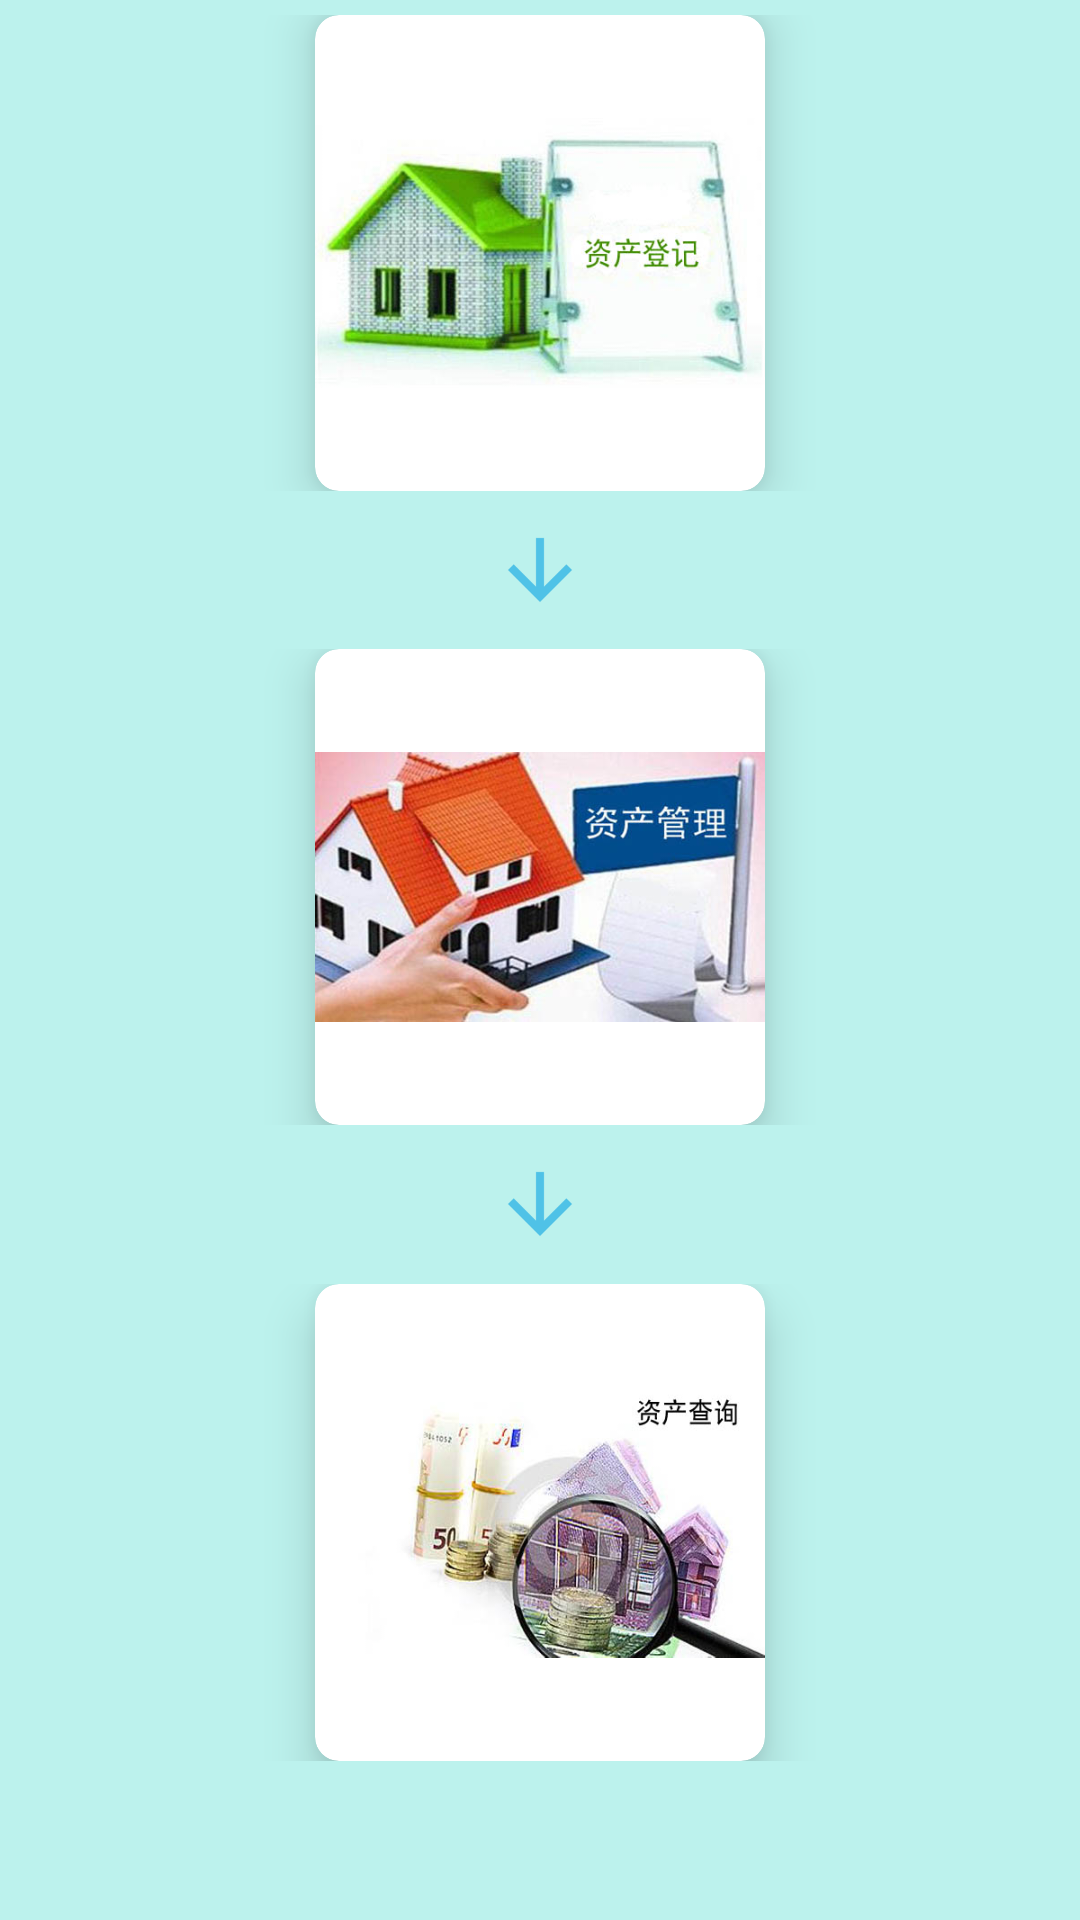

Screen size 1080w x 1920h. Icon name, then its center in pixels as (x,y):
down navi: (540,570), (540,1204)
